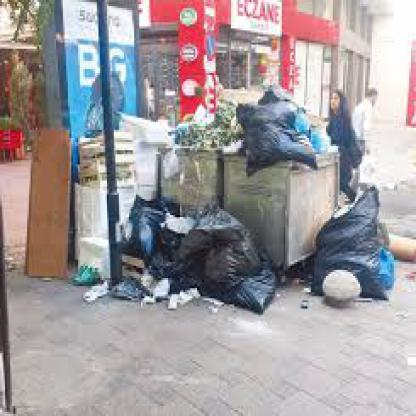Garbage: (132, 205, 278, 317), (158, 211, 280, 315), (221, 90, 321, 170), (309, 182, 394, 270), (236, 92, 318, 176), (236, 100, 323, 176), (317, 187, 394, 272), (126, 192, 168, 309), (166, 102, 248, 152), (170, 106, 243, 150)
